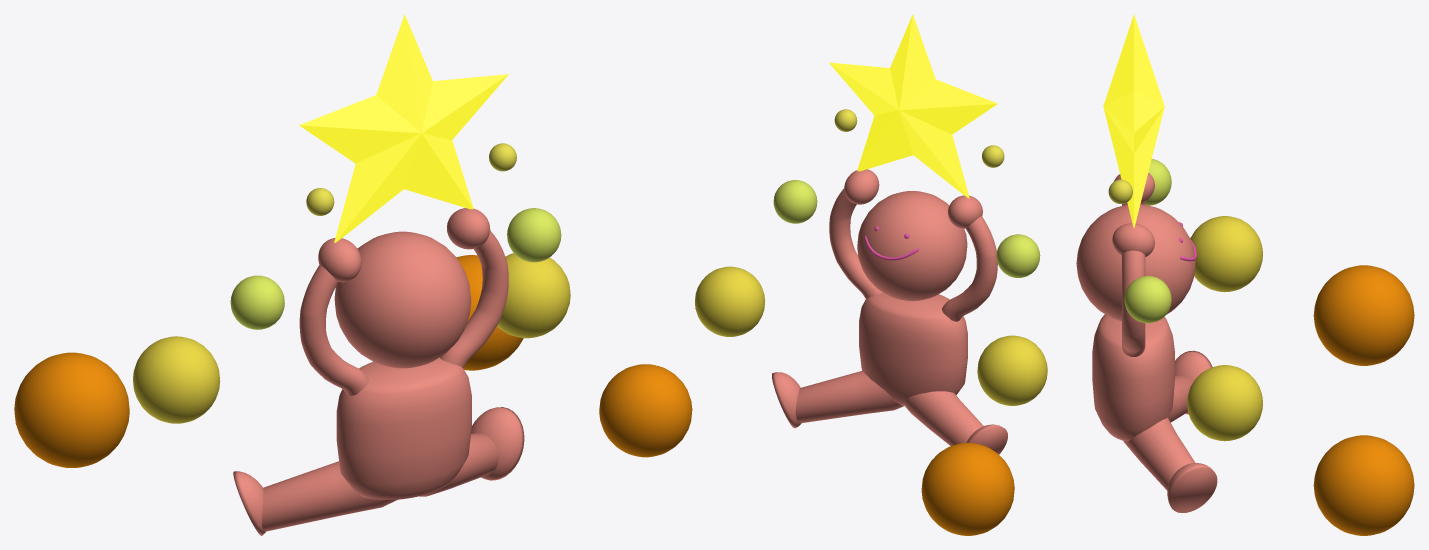
Rendered from IchibanboshiModeling2.glb.
The picture shows the model from 3 angles, left to right: view 1: azimuth 30°, elevation 25°; view 2: azimuth 150°, elevation 25°; view 3: azimuth 270°, elevation 25°; orthographic projection. The views are drawn at different scales.
Parts seen in each view (by area): view 1: Cone, Body, Head, BigBall.002, UnderBall.002, LeftLeg, UnderBall.001, LeftArm, RightArm, MidBall.002, MidBall.001, RightFoot (+5 smaller); view 2: Cone, Body, Head, BigBall.002, BigBall.001, UnderBall.002, UnderBall.001, RightLeg, LeftLeg, LeftArm, RightArm, MidBall.002 (+5 smaller); view 3: BigBall.001, BigBall.002, Body, Head, Cone, UnderBall.001, UnderBall.002, RightLeg, RightFoot, MidBall.001, RightArm, RightHand (+4 smaller).
Boxes of the visible parts, bbox=[...] form: Cone: bbox=[299, 14, 508, 242]; Body: bbox=[336, 357, 471, 499]; Head: bbox=[334, 231, 471, 368]; BigBall.002: bbox=[14, 352, 129, 467]; UnderBall.002: bbox=[133, 336, 220, 423]; LeftLeg: bbox=[262, 461, 397, 531]; UnderBall.001: bbox=[497, 253, 570, 338]; LeftArm: bbox=[299, 265, 368, 395]; RightArm: bbox=[440, 230, 508, 367]; MidBall.002: bbox=[230, 275, 284, 329]; MidBall.001: bbox=[507, 208, 561, 262]; RightFoot: bbox=[471, 407, 524, 480]; Cone: bbox=[829, 14, 997, 198]; Body: bbox=[859, 292, 967, 405]; Head: bbox=[857, 191, 967, 301]; BigBall.002: bbox=[921, 443, 1014, 535]; BigBall.001: bbox=[599, 364, 692, 457]; UnderBall.002: bbox=[977, 335, 1047, 405]; UnderBall.001: bbox=[695, 266, 764, 336]; RightLeg: bbox=[795, 371, 903, 423]; LeftLeg: bbox=[904, 391, 983, 445]; LeftArm: bbox=[942, 216, 997, 321]; RightArm: bbox=[829, 188, 882, 299]; MidBall.002: bbox=[996, 234, 1040, 277]; BigBall.001: bbox=[1313, 435, 1414, 535]; BigBall.002: bbox=[1313, 265, 1414, 365]; Body: bbox=[1092, 314, 1174, 441]; Head: bbox=[1076, 204, 1195, 321]; Cone: bbox=[1103, 14, 1164, 227]; UnderBall.001: bbox=[1187, 365, 1262, 441]; UnderBall.002: bbox=[1190, 216, 1262, 291]; RightLeg: bbox=[1123, 417, 1195, 490]; RightFoot: bbox=[1167, 463, 1217, 512]; MidBall.001: bbox=[1124, 276, 1171, 323]; RightArm: bbox=[1122, 250, 1145, 356]; RightHand: bbox=[1112, 223, 1154, 256].
Size of the model in its own units: 2.03 by 2 by 1.36.
